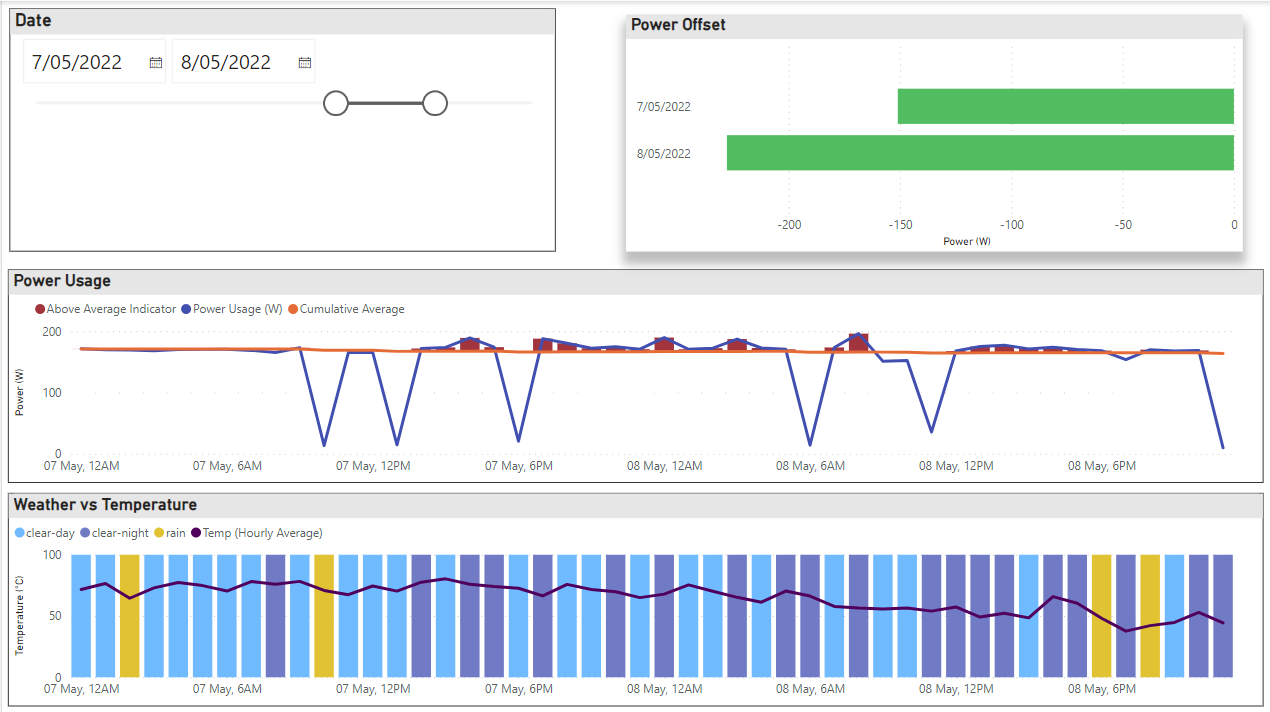

The dashboard page shown, as its layout file describes it:
{"tool":"powerbi","page":{"name":"Overview","canvas":[1280,720],"ordinal":0},"visuals":[{"type":"lineStackedColumnComboChart","title":"Power Usage ","fields":{"Y2":["Electricity Analysis.W_Value","Electricity Analysis.Measure2"],"Y":["Electricity Analysis.CumulativeAverageColumn","Electricity Analysis.AboveAverageIndicatorOverview"],"Category":["Electricity Analysis.DateTimeEvery1Hour"]},"box":[6.1,271,1267.4,215],"z":0},{"type":"barChart","title":"Power Offset","fields":{"Category":["dimDate.Date"],"Y":["Electricity Analysis.OffsetCheck"]},"box":[629.9,13.6,622.3,239.2],"z":2000},{"type":"slicer","title":"Date","fields":{"Values":["dimDate.Date"]},"box":[7.6,7.6,551.2,245.3],"z":3000},{"type":"lineStackedColumnComboChart","title":"Weather vs Temperature","fields":{"Category":["Electricity Analysis.DateTimeEvery1Hour"],"Y2":["Max(Electricity Analysis.Temp_avg)"],"Y":["Electricity Analysis.Measure"],"Series":["Electricity Analysis.icon"]},"box":[6.1,496,1267.4,215],"z":4001}]}

Visuals, with their boxes in screenshot pixels (x1, y1, x2, y2), scaled from the page's 1280x720 canvas onto the 1270x712 screenshot:
"Power Usage " lineStackedColumnComboChart: [6,268,1264,481]
"Power Offset" barChart: [625,13,1242,250]
"Date" slicer: [8,8,554,250]
"Weather vs Temperature" lineStackedColumnComboChart: [6,490,1264,703]
